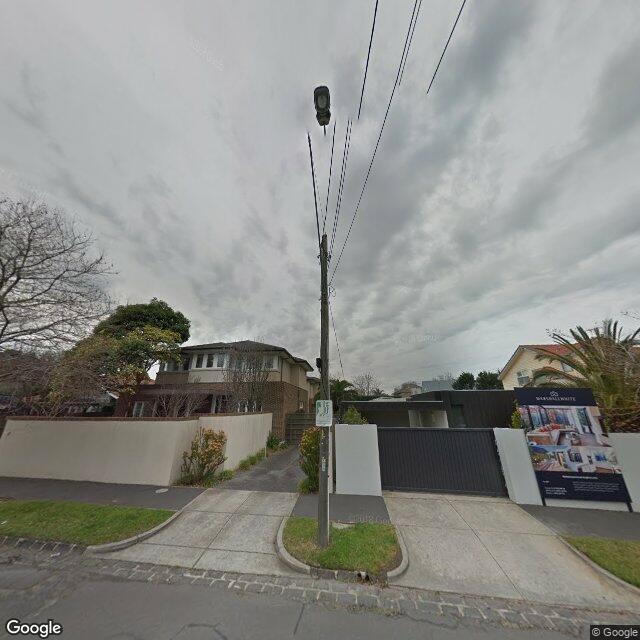streetlight: (313, 84, 333, 137)
timber-pole: (318, 234, 329, 549)
